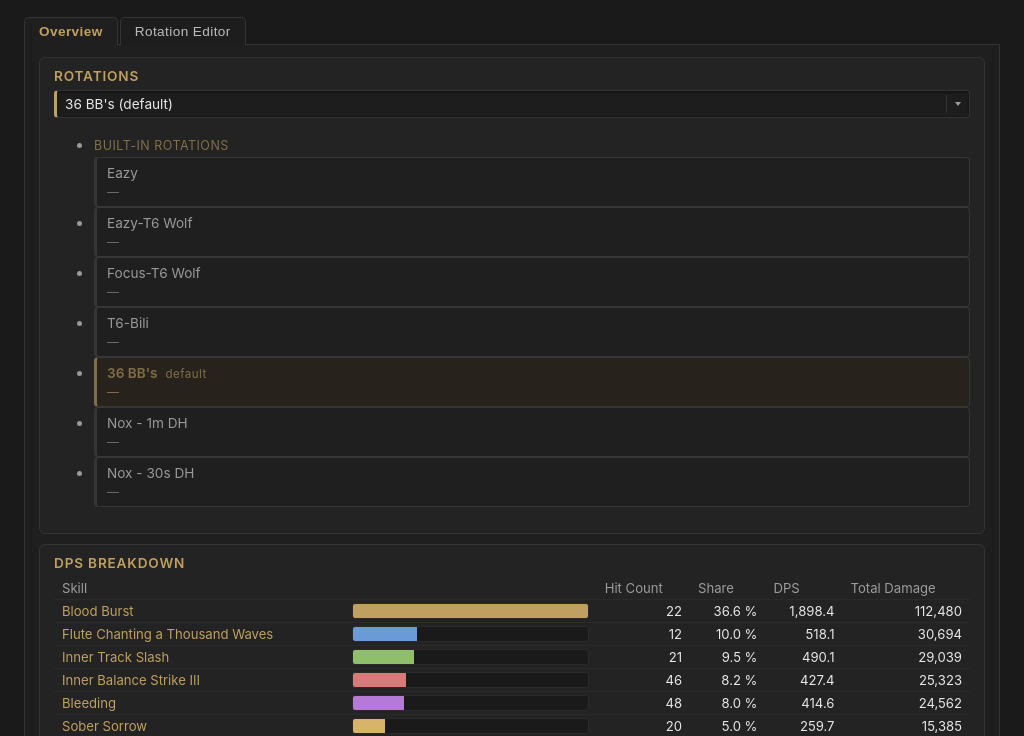
Test case: RotationTab subtabs › shows the editor once its subtab is selected
This screenshot has width=1024, height=736.
Step 1. Click the tab "Rotation Editor" → (183, 31), box top-left (120, 17), bottom-right (246, 45)
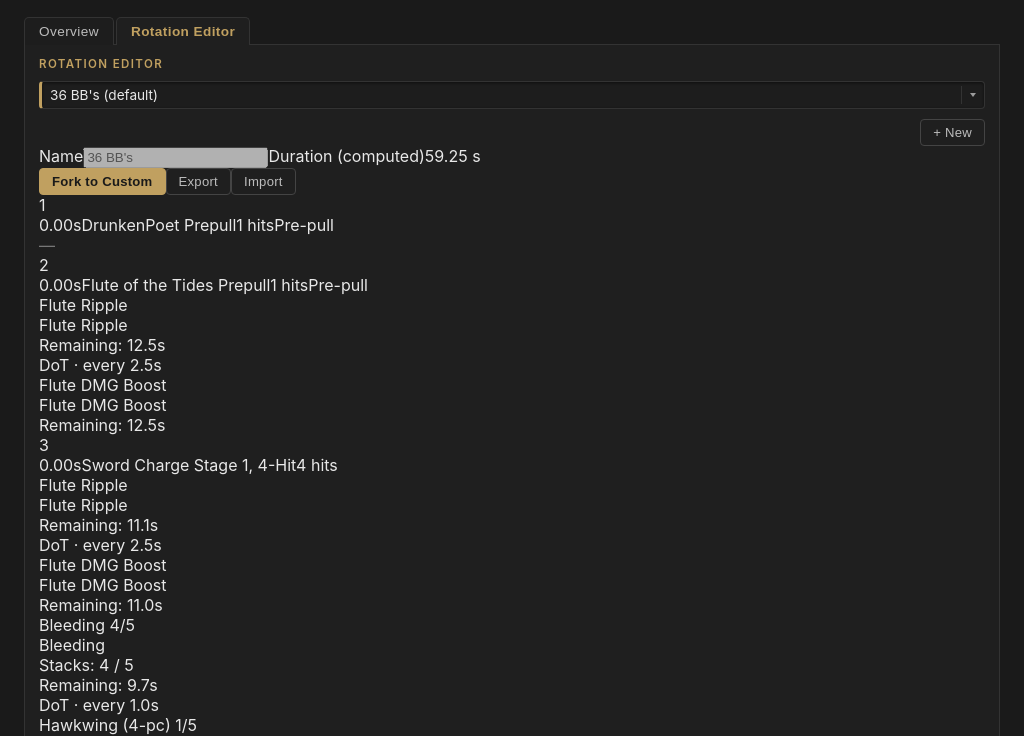
Expected: the button "+ New" is shown, top-left (920, 119), bottom-right (985, 146)
Expected: the heading "DPS Breakdown" is gone
